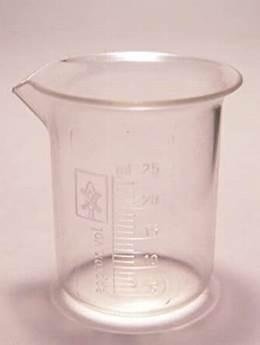Beaker: (10, 49, 247, 335)
